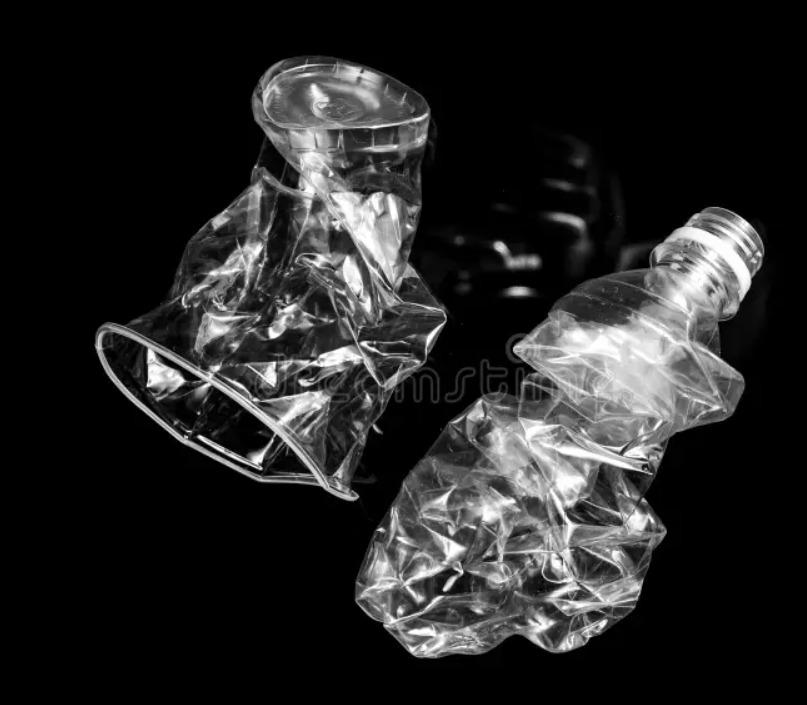Plastic: (349, 191, 784, 671), (89, 28, 455, 503)
